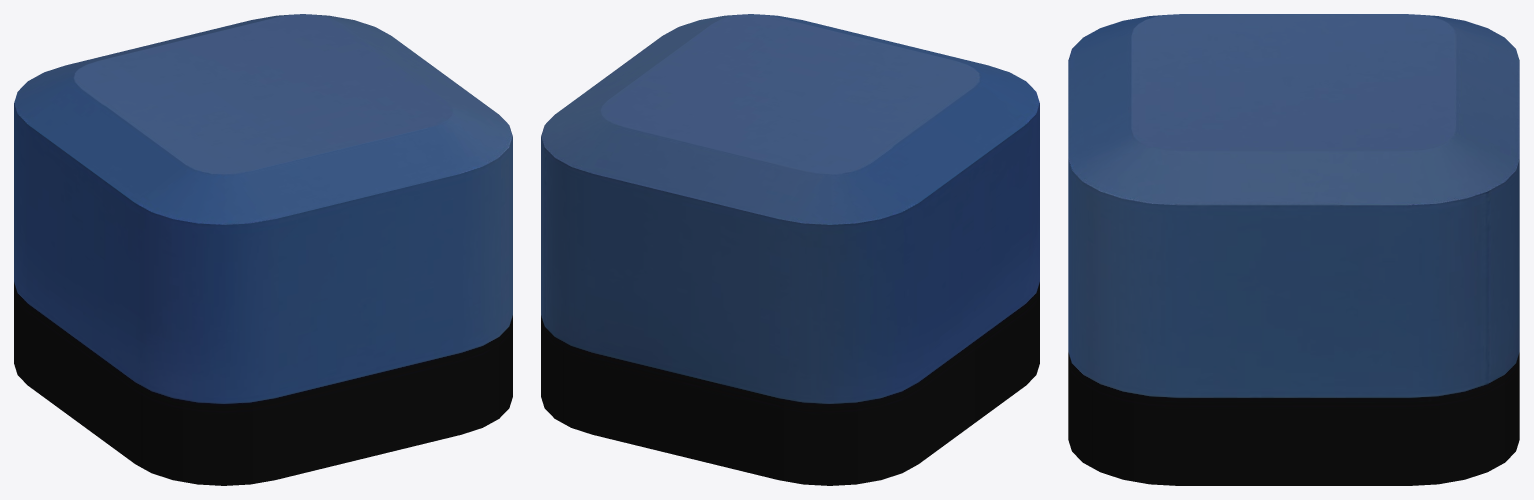
The model's file is Web_GK_Tombol_1.glb.
The picture shows the model from 3 angles, left to right: view 1: azimuth 30°, elevation 25°; view 2: azimuth 150°, elevation 25°; view 3: azimuth 270°, elevation 25°; orthographic projection. The views are drawn at different scales.
Parts seen in each view (by area): view 1: Cube.009; view 2: Cube.009; view 3: Cube.009.
Boxes of the visible parts, left/top/right/bottom form: Cube.009: left=14, top=14, right=512, bottom=485; Cube.009: left=541, top=14, right=1039, bottom=485; Cube.009: left=1068, top=14, right=1519, bottom=485.
Bounding box in the file's own units: 0.1851 × 0.1393 × 0.1851.
Materials: 1 (1 with a texture image).
